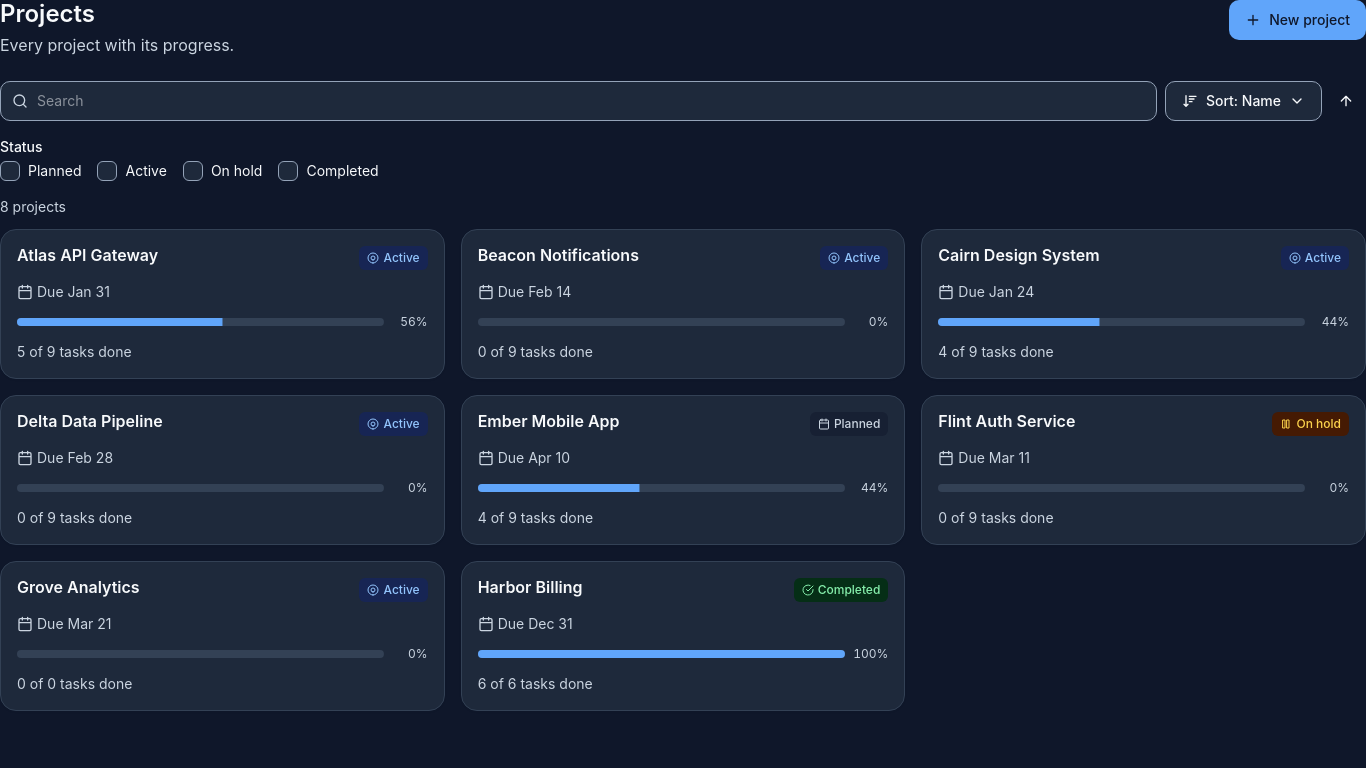
Test: TC-054 projects pages (FR-11, FR-14) › TC-030 creating a project validates, then saves
The width and height of the screenshot is (1366, 768).
Expected: the text "8 projects" is shown, [0, 198, 66, 215]
Click the button "New project" at (1298,20), box [1229, 0, 1365, 40]
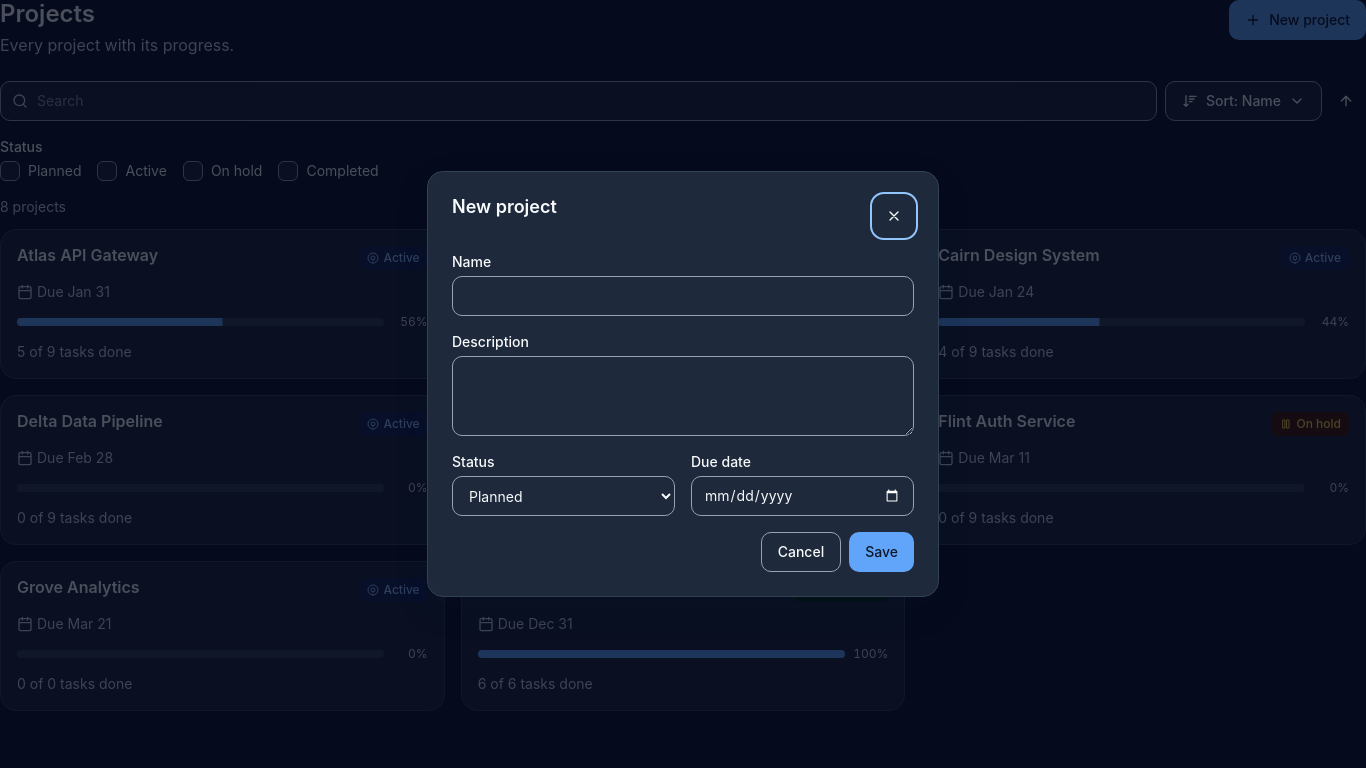
Click the button "Save" at (882,552), box [849, 532, 914, 572]
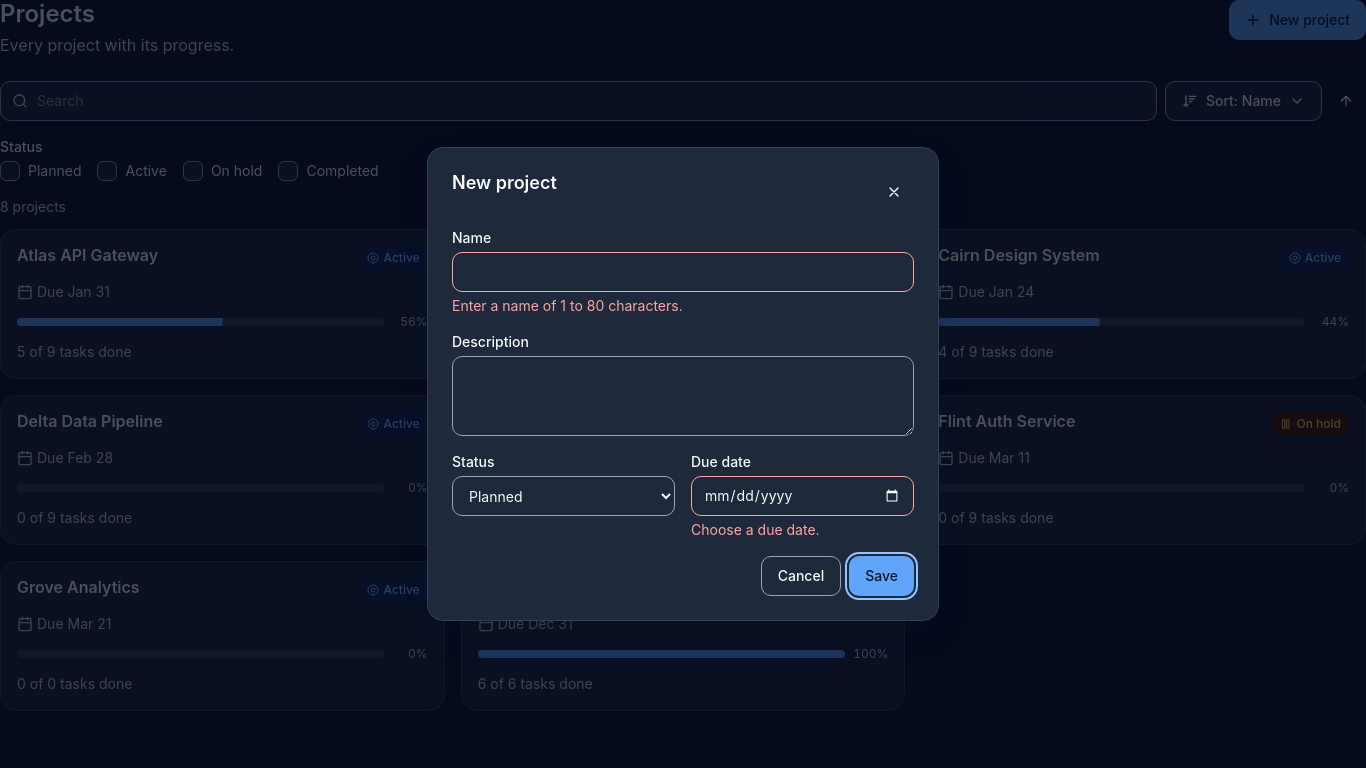
Expected: the text "Enter a name of 1 to 80 characters." is shown, [452, 297, 683, 314]
Expected: the text "Choose a due date." is shown, [691, 521, 820, 538]
Type "Fresh project" into the field labelled "Name" at (683,272), box [452, 252, 914, 292]
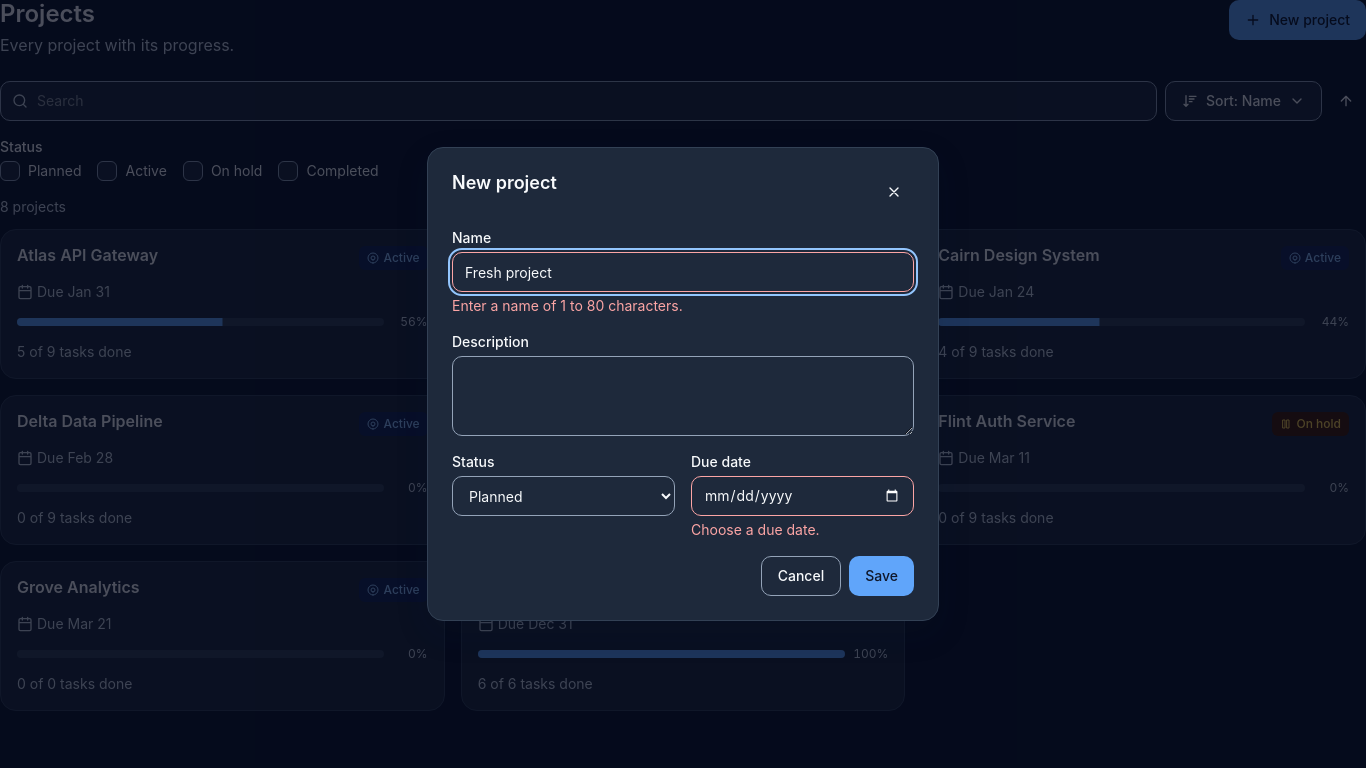
Type "2030-06-01" into the date field labelled "Due date" at (802,496), box [691, 476, 914, 516]
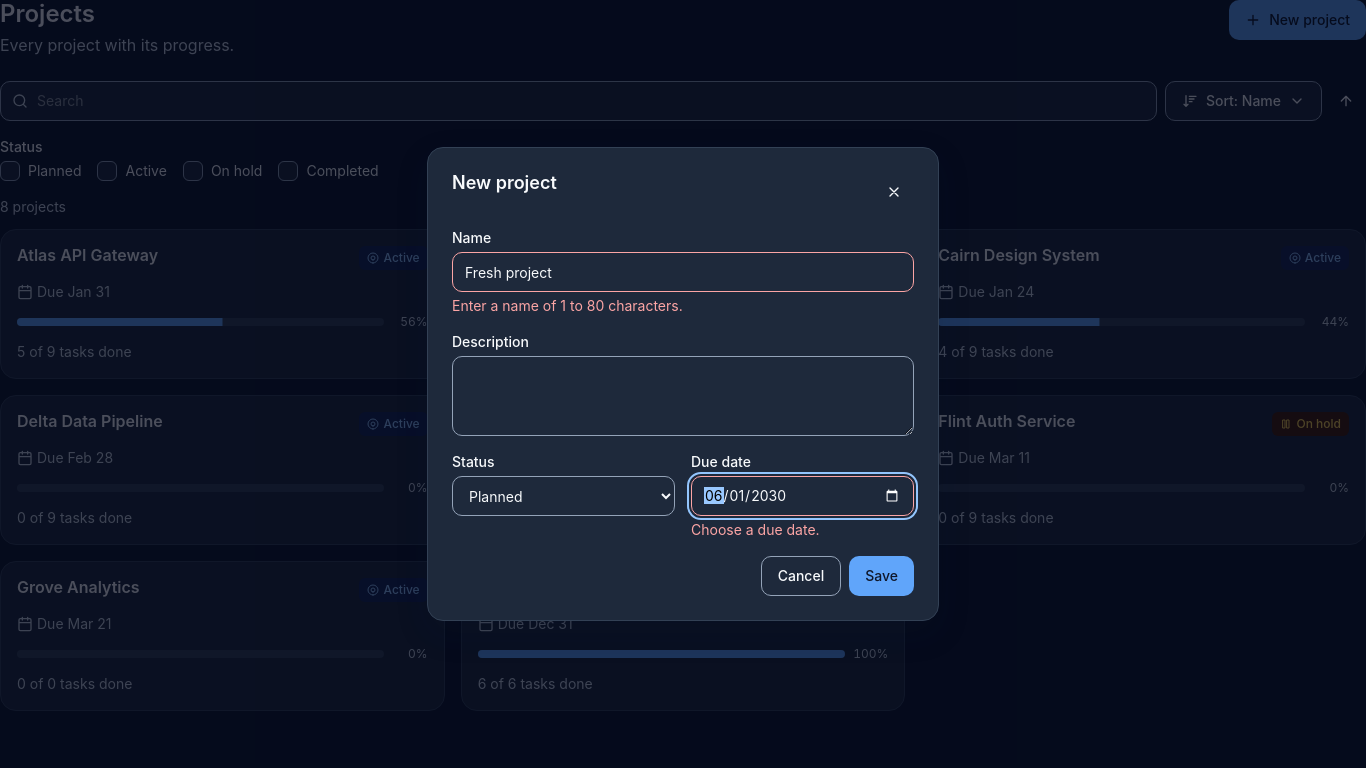
Click the button "Save" at (882,576), box [849, 556, 914, 596]
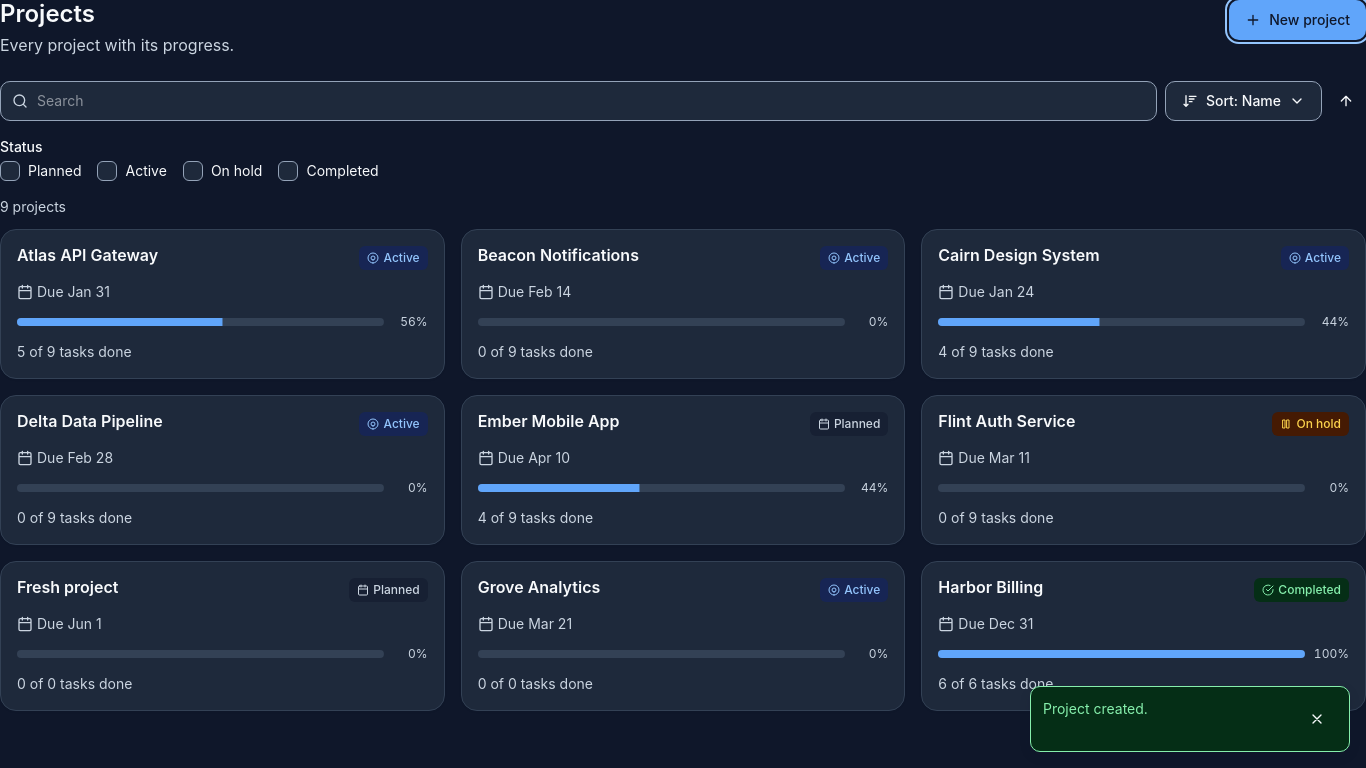
Expected: the text "Project created." is shown, [1043, 700, 1148, 717]
